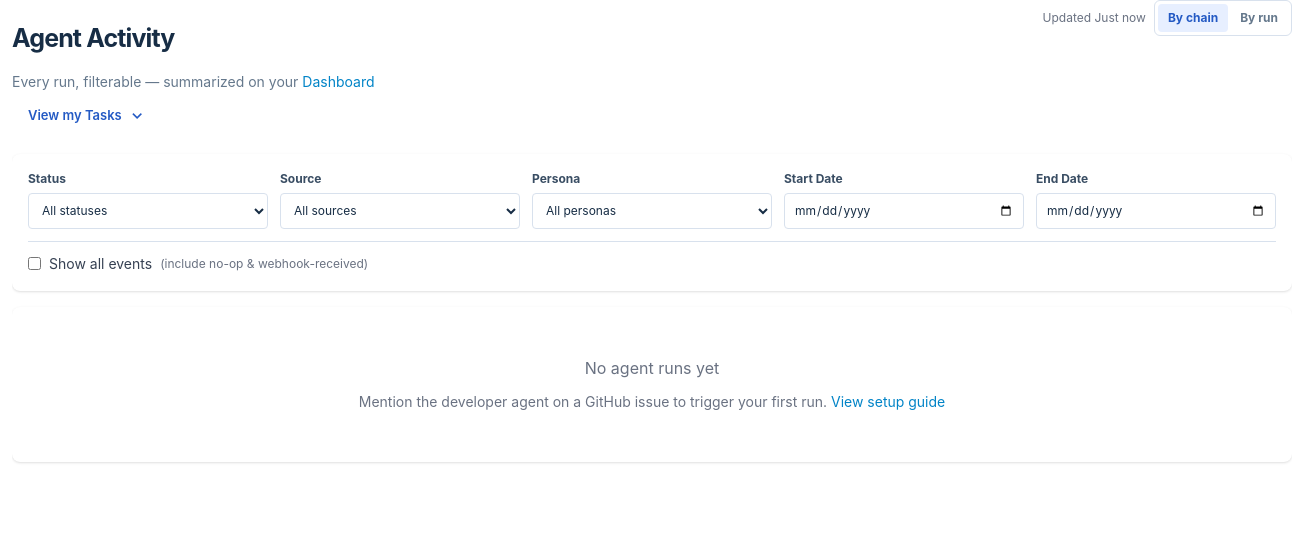
it: AgentActivity Page › skip reasons (Issue #4020) › renders the two new non-run statuses
Click the tab "By run" at (1259, 18), box 1230,4 -> 1288,32
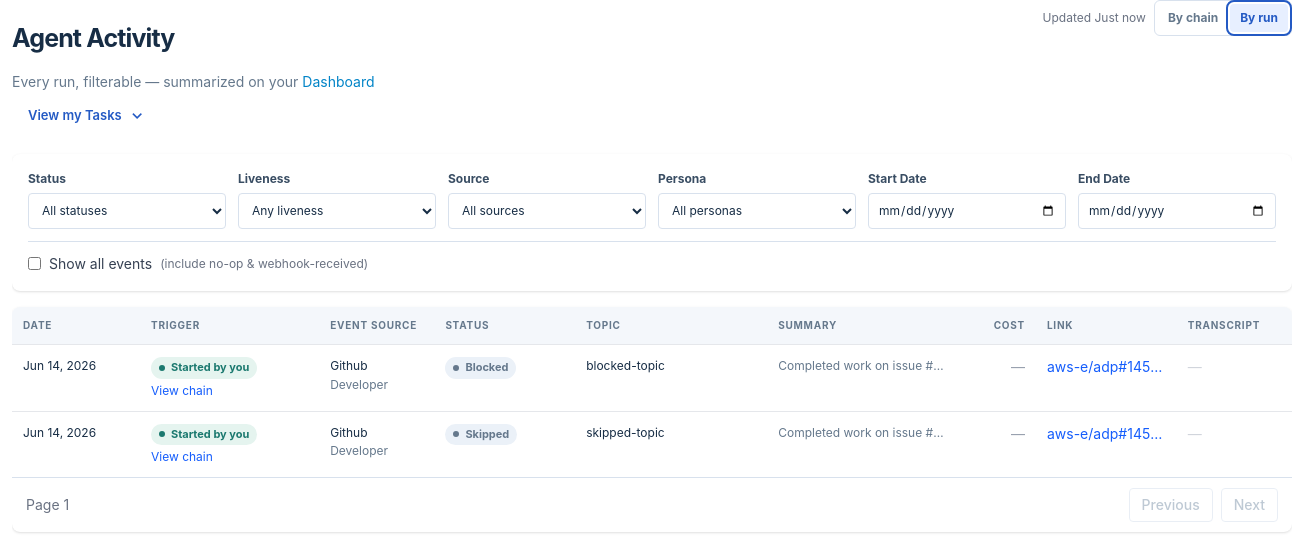
Check: the text "Blocked" is shown, box 465,362 -> 508,375
Check: the text "Skipped" is shown, box 465,428 -> 509,441
